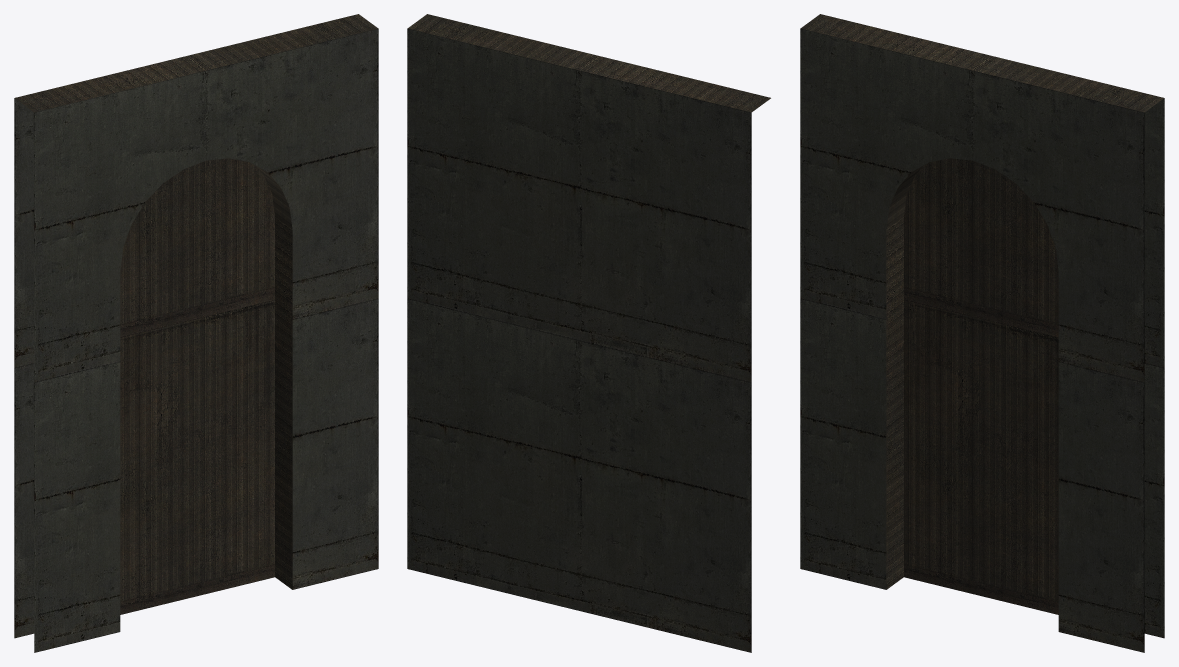
File: wall_rg_15_double.glb
3 views of the same model, side by side, from view 1: azimuth 30°, elevation 25°; view 2: azimuth 150°, elevation 25°; view 3: azimuth 330°, elevation 25° (orthographic).
Parts seen in each view (by area): view 1: wall_rg_15_double; view 2: wall_rg_15_double; view 3: wall_rg_15_double.
Part boxes in pixels (box(x1,y1,x2,y2)): wall_rg_15_double: box(14, 14, 378, 652); wall_rg_15_double: box(407, 14, 770, 652); wall_rg_15_double: box(800, 14, 1164, 652).
Size of the model in its own units: 4 by 6 by 0.4.
Materials: 2 (2 with a texture image).
